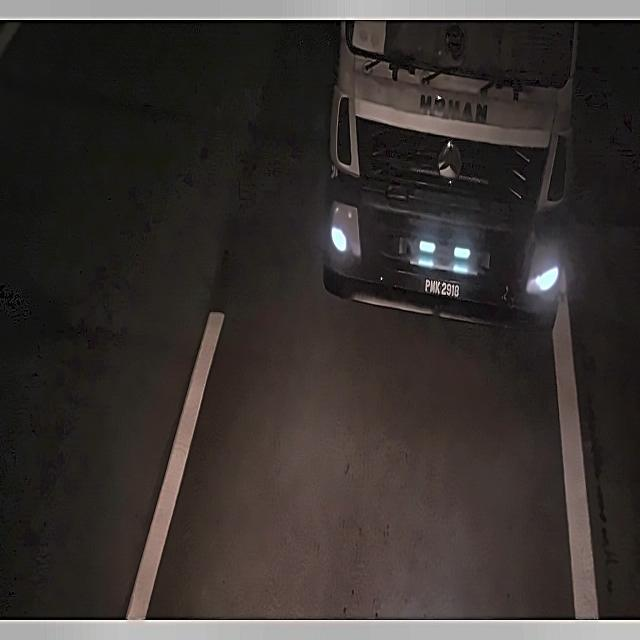car: (420, 274, 464, 305)
